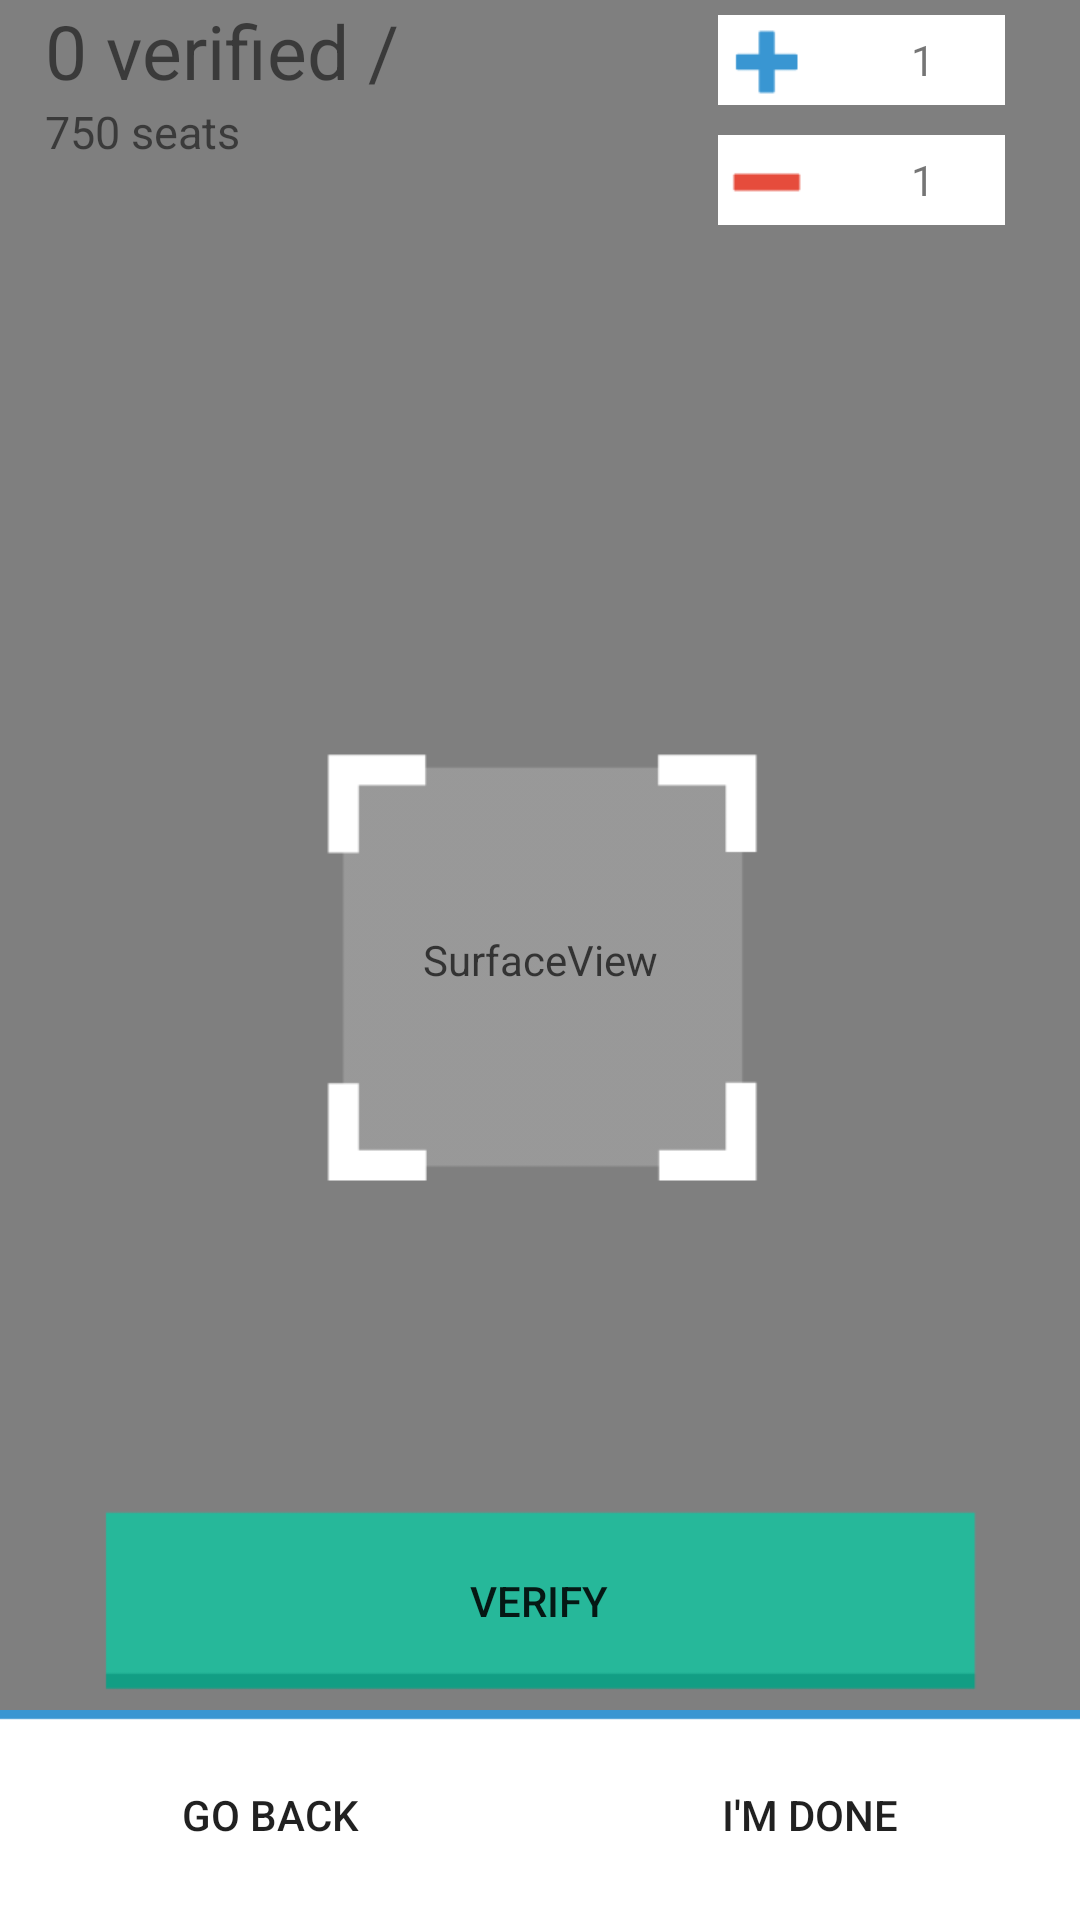

Screen size 1080px x 1920px. Icon name, then its center in pixels as [x,y]:
add ticket: [764,60]
remove ticket: [764,180]
